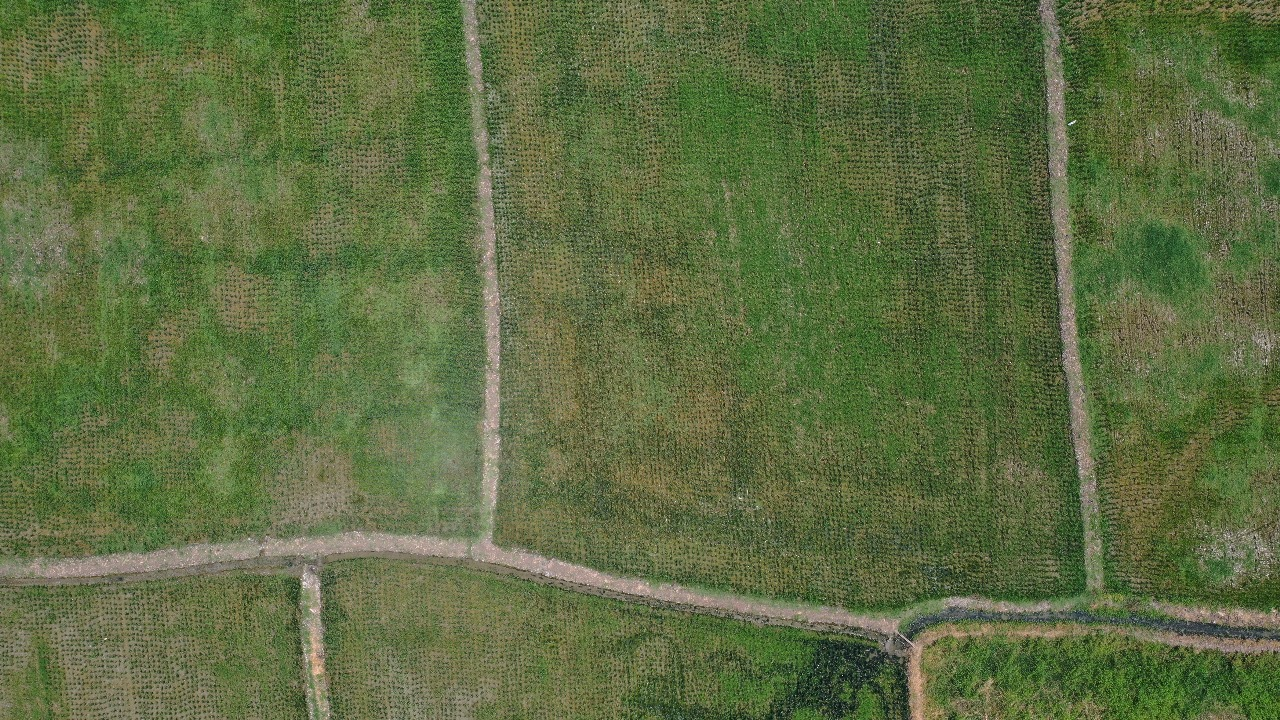irigation: (1035, 1, 1112, 593), (441, 1, 518, 535), (1, 538, 627, 592), (608, 574, 1073, 646), (1054, 584, 1280, 657), (287, 568, 339, 720), (880, 639, 930, 720)
